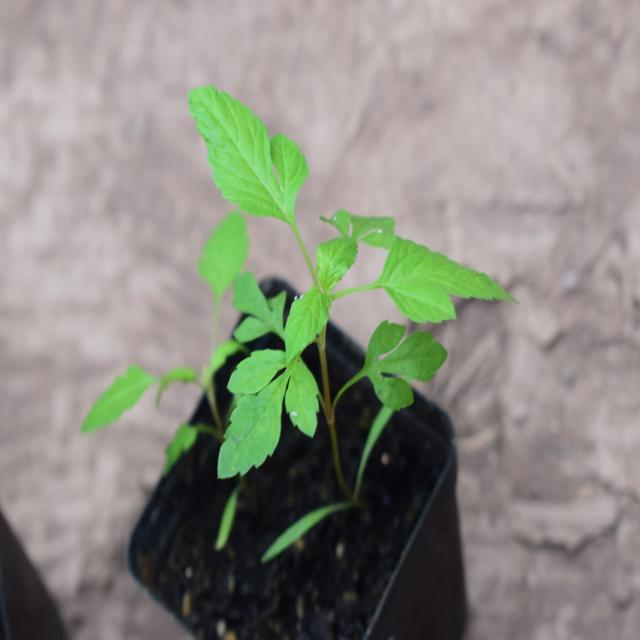Bidens pilosa: (180, 75, 497, 496)
